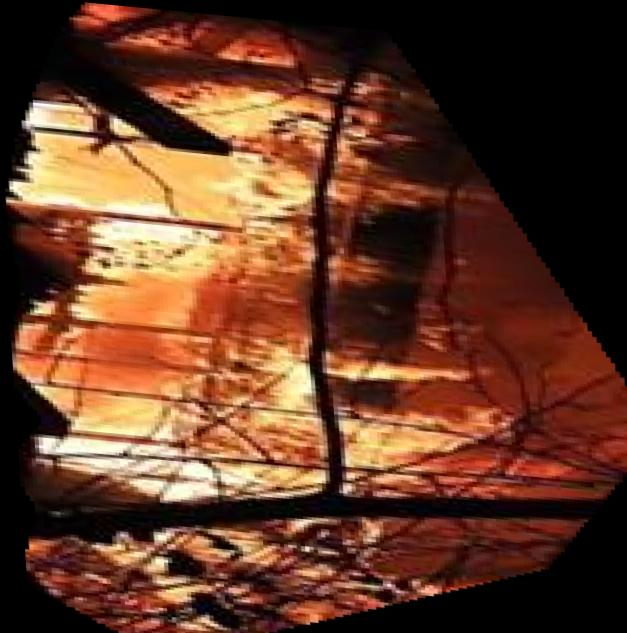fire: (1, 0, 627, 633)
